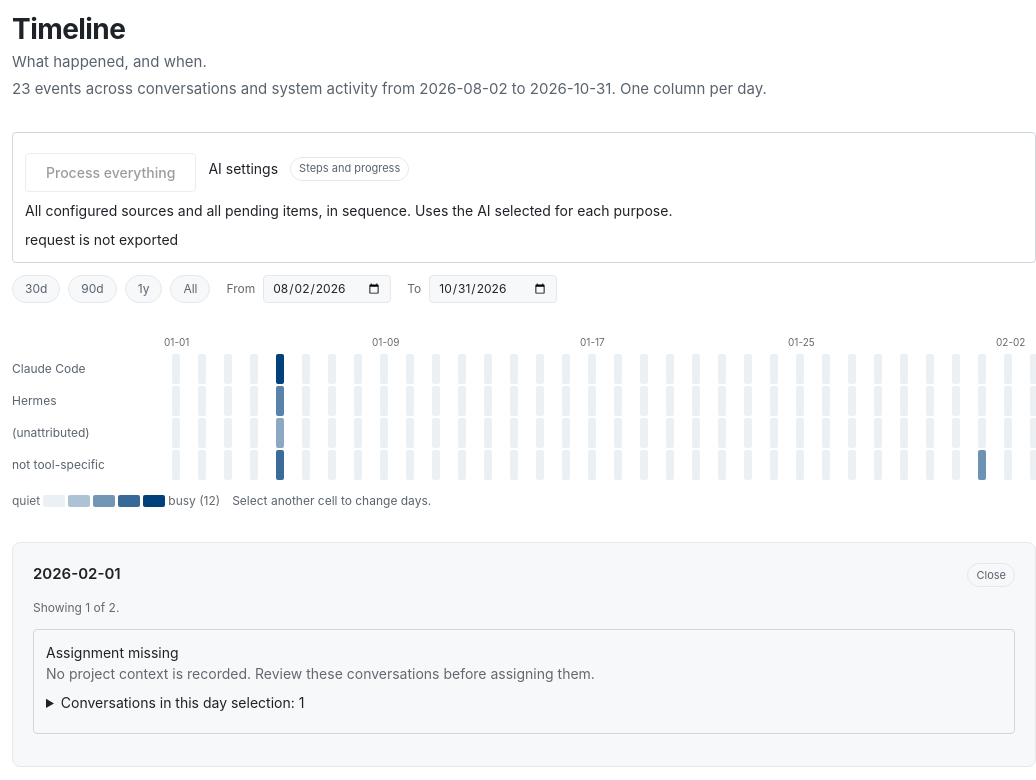
Test: TimelinePage › the not-tool-specific lane's cell click carries no provider filter
Click the button named "not tool-specific, 2026-01-05, 5 events" at (280, 465), box x1=268 y1=450 x2=292 y2=480
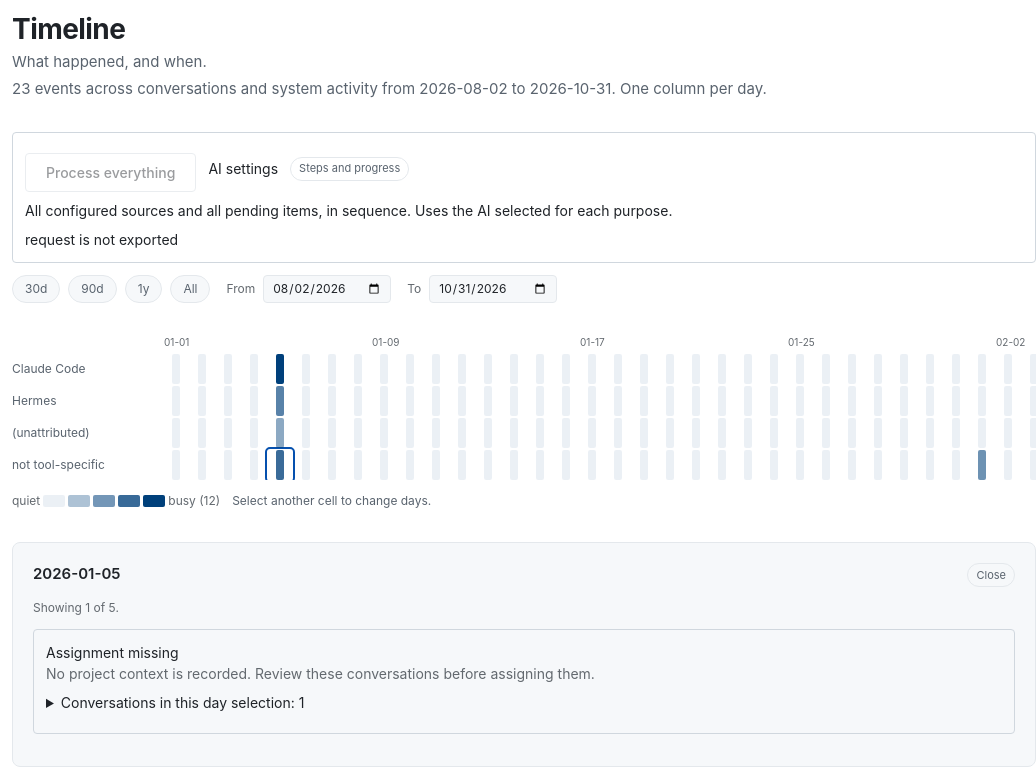
Check: the element named "events on 2026-01-05" is shown, box x1=12 y1=542 x2=1035 y2=767
